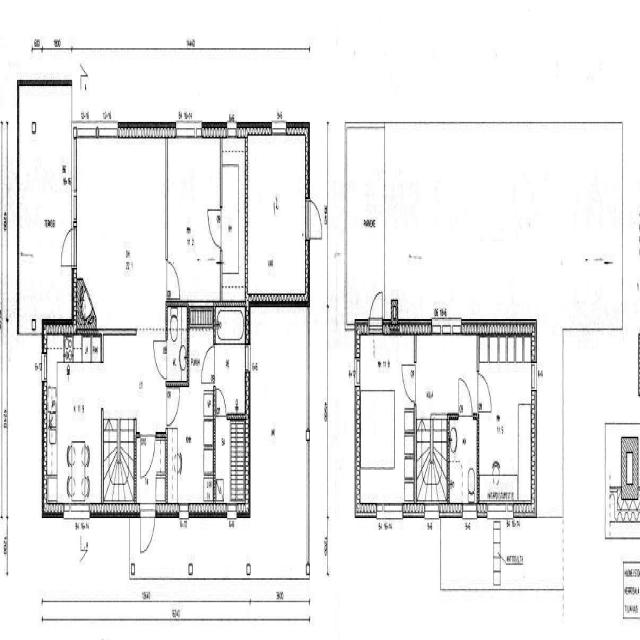door: (140, 503, 155, 559), (369, 280, 382, 336), (140, 432, 155, 480), (58, 228, 77, 265), (305, 199, 323, 238), (206, 209, 222, 249), (458, 374, 472, 419), (152, 340, 168, 378), (400, 364, 416, 402), (166, 260, 181, 299), (477, 373, 492, 412), (200, 346, 215, 382), (166, 388, 180, 426), (216, 386, 226, 419)
